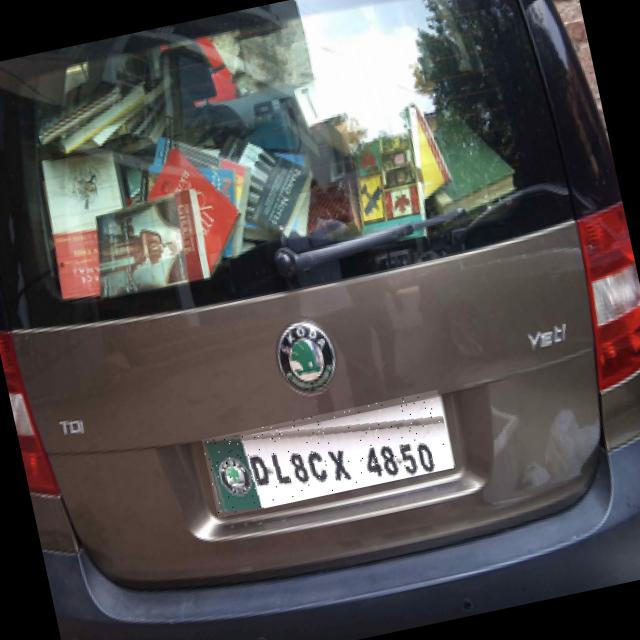Plate: (203, 391, 455, 519)
